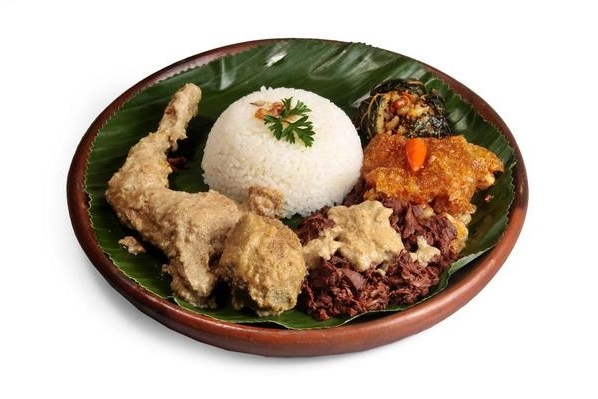gudeg: (102, 80, 504, 312)
